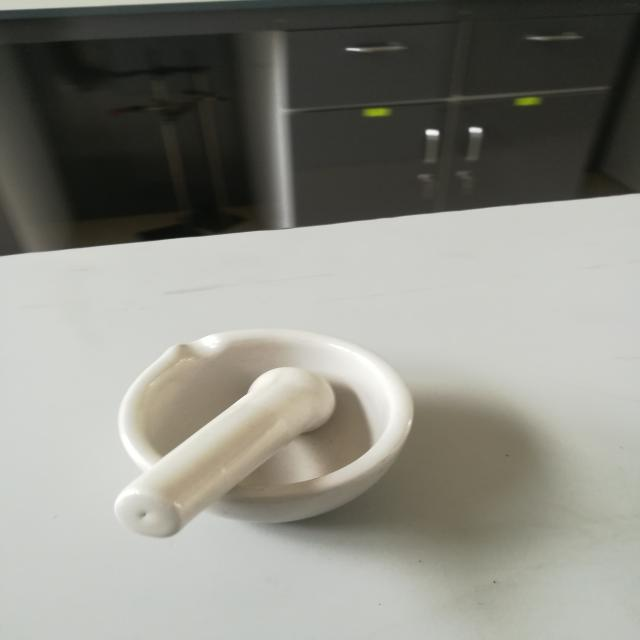Porcelain_Mortar Pestle: (46, 270, 493, 588)
